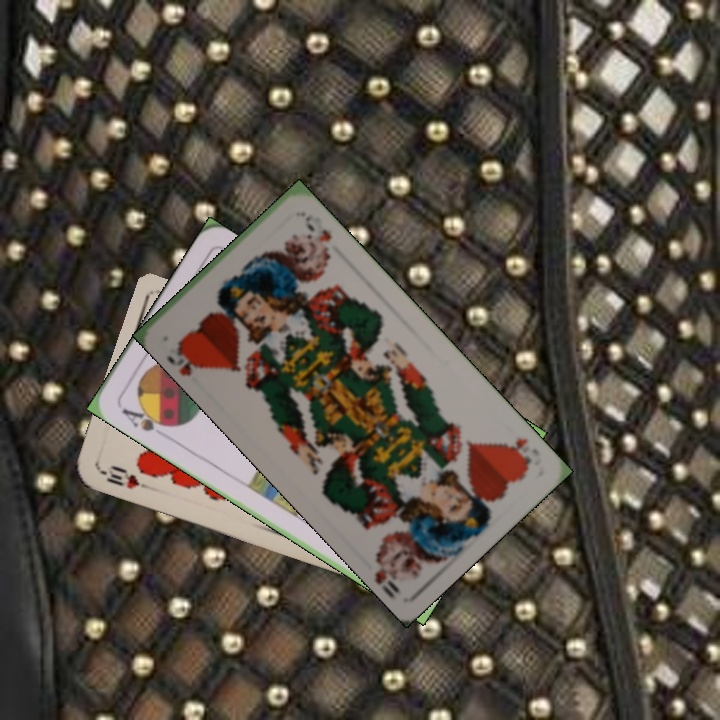H10: (95, 461, 153, 492)
HO: (164, 337, 210, 379), (500, 434, 534, 472)
SA: (118, 401, 174, 440)
